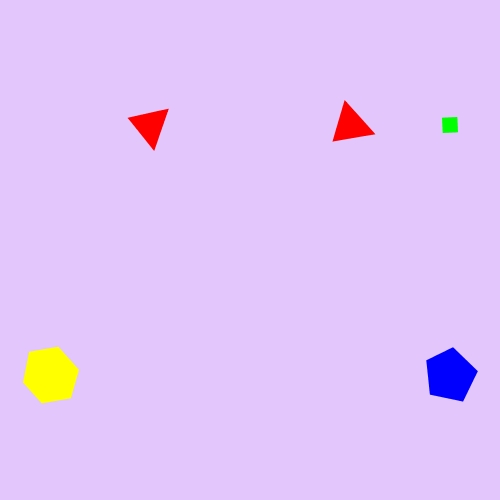hexagon: (16, 347, 84, 404)
pentagon: (420, 345, 480, 405)
quadrilateral: (435, 110, 465, 140)
triangle: (327, 101, 373, 150), (128, 101, 173, 149)
